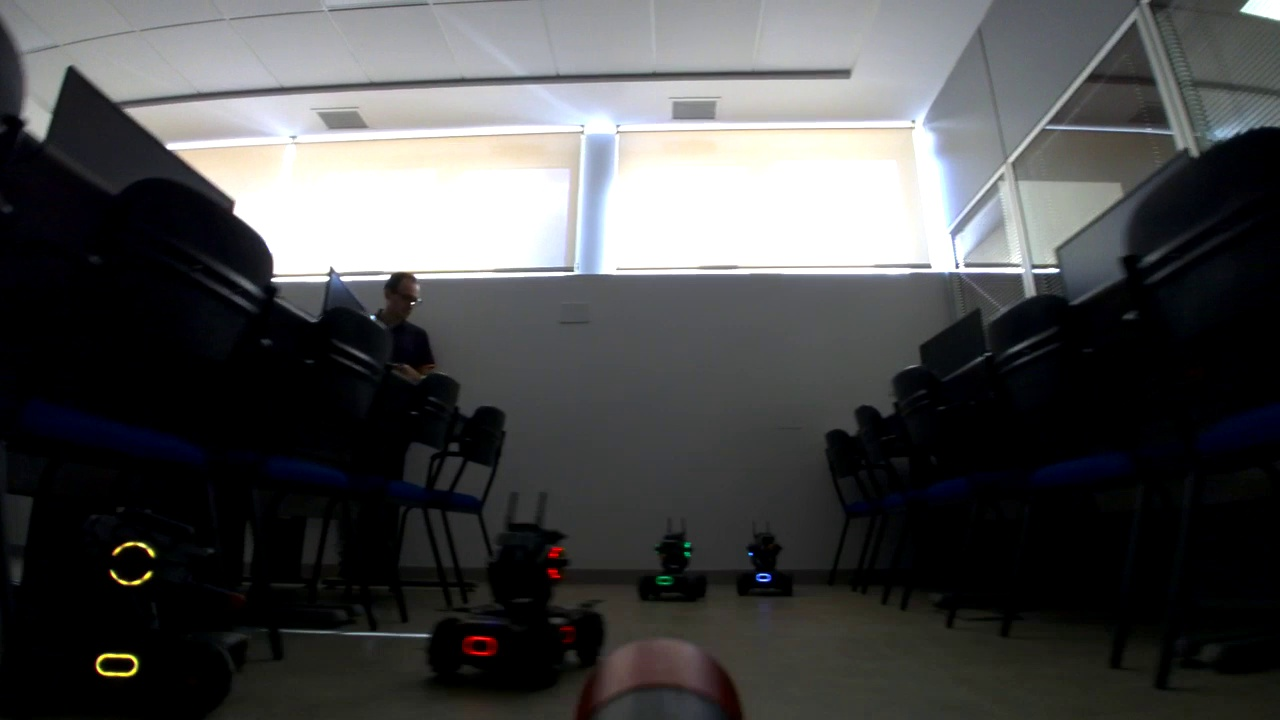robot: (1, 464, 222, 720), (423, 491, 603, 686), (636, 517, 707, 597), (739, 521, 792, 596)
